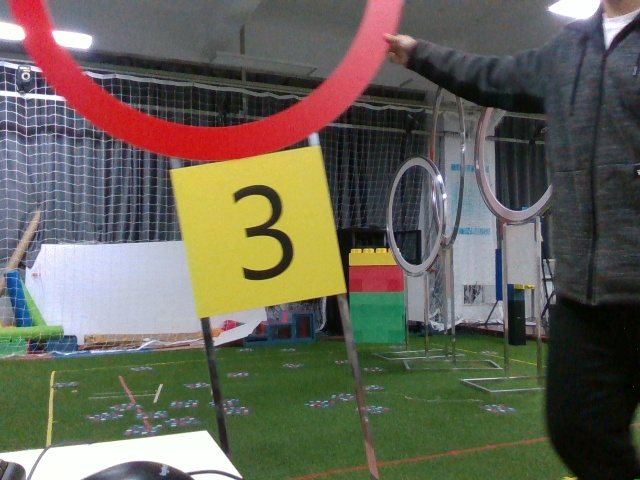target: (191, 162, 328, 299)
